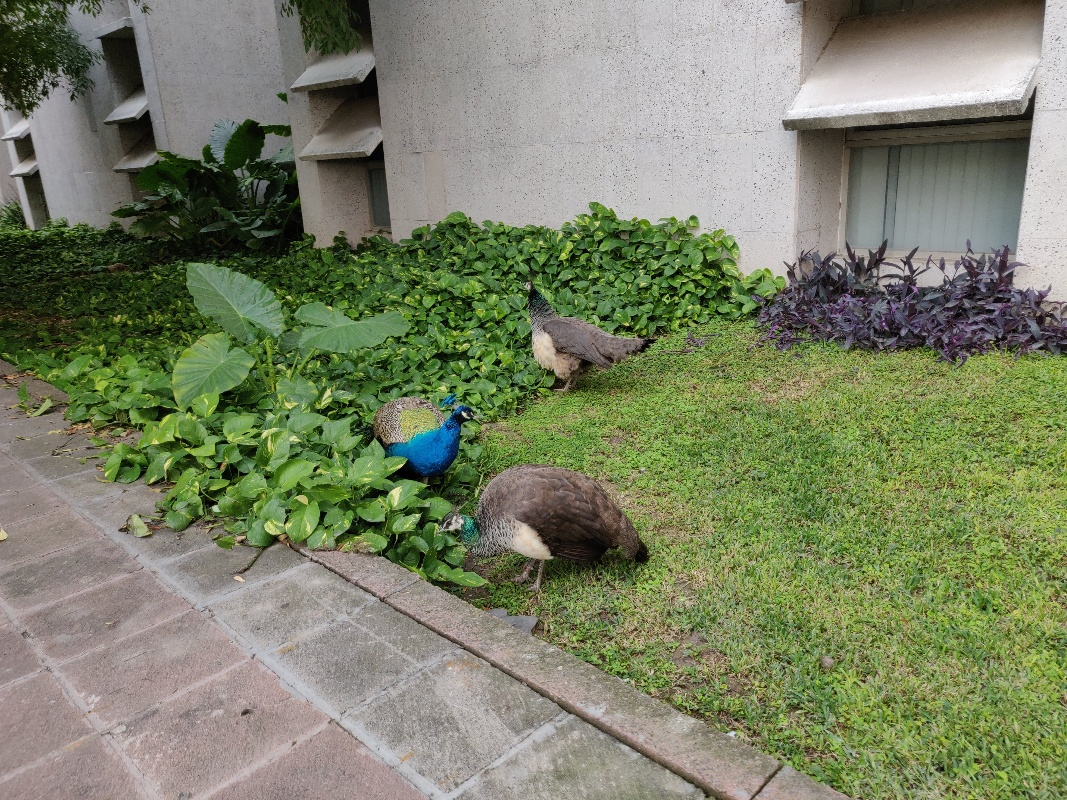pavoreal: (433, 463, 648, 591), (519, 271, 632, 400), (361, 380, 478, 468)
